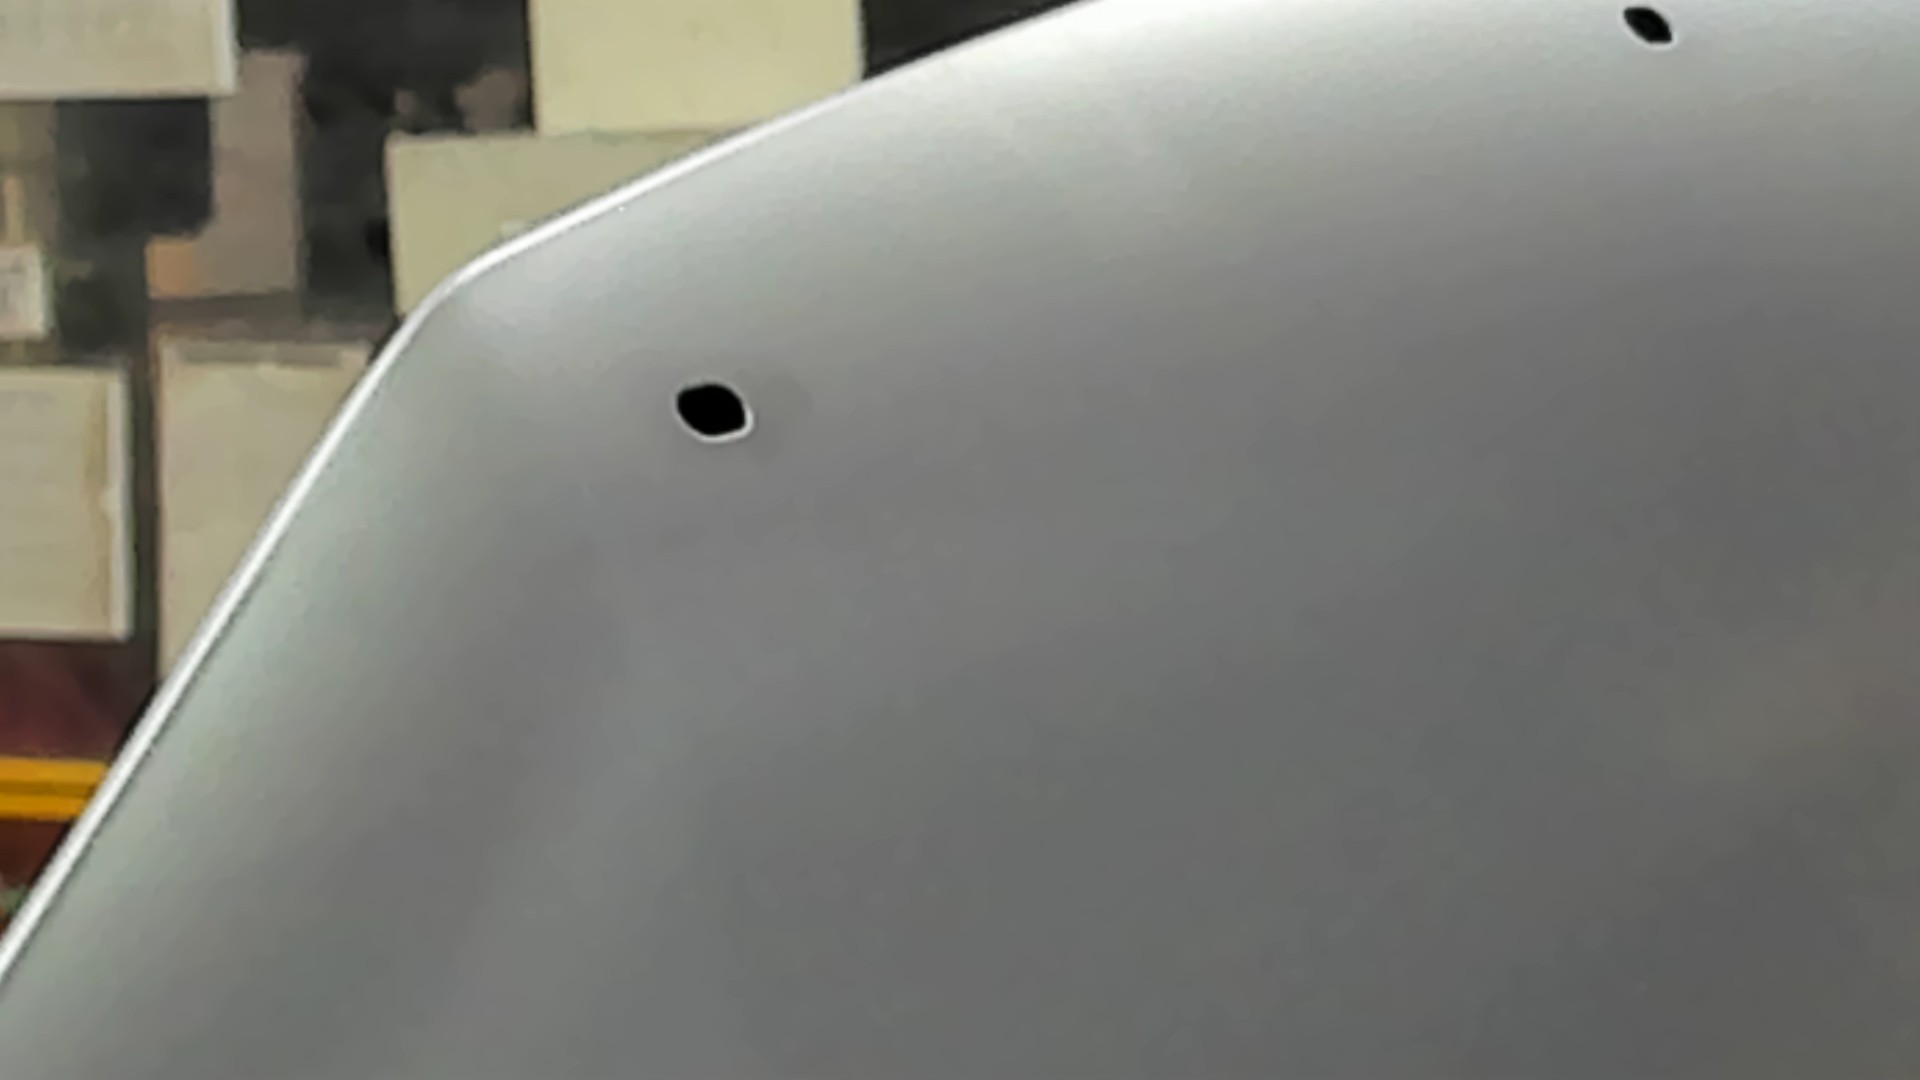amorfo: (669, 375, 764, 447), (1613, 1, 1684, 49)
